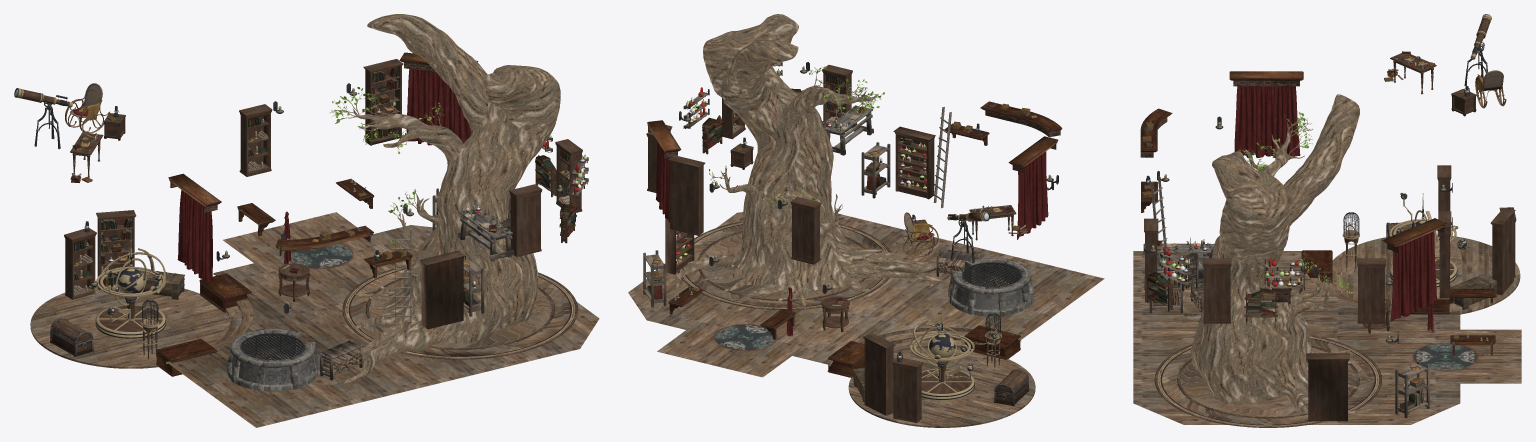
File: lingo_diorama.glb
3 views of the same model, side by side, from view 1: azimuth 30°, elevation 25°; view 2: azimuth 150°, elevation 25°; view 3: azimuth 270°, elevation 25° (orthographic). The views are drawn at different scales.
Visible parts, largest first — view 1: KB3D_ECI_IntWizardOffice_A_Floor, KB3D_ECI_IntWizardOffice_A_Tree, KB3D_ECI_IntWizardOffice_A_FirePlace, KB3D_ECI_IntWizardOffice_A_EarthGlobe, KB3D_ECI_IntWizardOffice_A_CurtainA, KB3D_ECI_IntWizardOffice_A_CurtainB, KB3D_ECI_IntWizardOffice_A_ShelfUnitF, KB3D_ECI_IntWizardOffice_A_ShelfUnitE, KB3D_ECI_IntWizardOffice_A_ShelfUnitH, KB3D_ECI_IntWizardOffice_A_ShelfUnitC, KB3D_ECI_IntWizardOffice_A_ShelfUnitJ, KB3D_ECI_IntWizardOffice_A_ShelfUnitL (+15 smaller); view 2: KB3D_ECI_IntWizardOffice_A_Floor, KB3D_ECI_IntWizardOffice_A_Tree, KB3D_ECI_IntWizardOffice_A_FirePlace, KB3D_ECI_IntWizardOffice_A_EarthGlobe, KB3D_ECI_IntWizardOffice_A_CurtainA, KB3D_ECI_IntWizardOffice_A_ShelfUnitE, KB3D_ECI_IntWizardOffice_A_ShelfUnitF, KB3D_ECI_IntWizardOffice_A_ShelfUnitH, KB3D_ECI_IntWizardOffice_A_ShelfUnitL, KB3D_ECI_IntWizardOffice_A_ShelfUnitC, KB3D_ECI_IntWizardOffice_A_CurtainB, KB3D_ECI_IntWizardOffice_A_Rug (+20 smaller); view 3: KB3D_ECI_IntWizardOffice_A_Floor, KB3D_ECI_IntWizardOffice_A_Tree, KB3D_ECI_IntWizardOffice_A_CurtainA, KB3D_ECI_IntWizardOffice_A_CurtainB, KB3D_ECI_IntWizardOffice_A_ShelfUnitG, KB3D_ECI_IntWizardOffice_A_ShelfUnitK, KB3D_ECI_IntWizardOffice_A_ShelfUnitD, KB3D_ECI_IntWizardOffice_A_ShelfUnitH, KB3D_ECI_IntWizardOffice_A_Rug, KB3D_ECI_IntWizardOffice_A_ShelfUnitM, KB3D_ECI_IntWizardOffice_A_EarthGlobe, KB3D_ECI_IntWizardOffice_A_ShelfUnitE (+19 smaller).
Boxes of the visible parts, box(x1,y1,x2,y2) form: KB3D_ECI_IntWizardOffice_A_Floor: box(30, 212, 599, 427); KB3D_ECI_IntWizardOffice_A_Tree: box(308, 14, 560, 385); KB3D_ECI_IntWizardOffice_A_FirePlace: box(227, 328, 319, 391); KB3D_ECI_IntWizardOffice_A_EarthGlobe: box(89, 240, 165, 339); KB3D_ECI_IntWizardOffice_A_CurtainA: box(168, 173, 221, 284); KB3D_ECI_IntWizardOffice_A_CurtainB: box(399, 52, 478, 145); KB3D_ECI_IntWizardOffice_A_ShelfUnitF: box(419, 250, 464, 329); KB3D_ECI_IntWizardOffice_A_ShelfUnitE: box(363, 59, 403, 145); KB3D_ECI_IntWizardOffice_A_ShelfUnitH: box(96, 210, 136, 291); KB3D_ECI_IntWizardOffice_A_ShelfUnitC: box(239, 104, 272, 176); KB3D_ECI_IntWizardOffice_A_ShelfUnitJ: box(509, 184, 542, 256); KB3D_ECI_IntWizardOffice_A_ShelfUnitL: box(64, 228, 96, 299); KB3D_ECI_IntWizardOffice_A_Floor: box(628, 212, 1104, 427); KB3D_ECI_IntWizardOffice_A_Tree: box(674, 14, 949, 308); KB3D_ECI_IntWizardOffice_A_FirePlace: box(948, 258, 1033, 316); KB3D_ECI_IntWizardOffice_A_EarthGlobe: box(910, 308, 1001, 400); KB3D_ECI_IntWizardOffice_A_CurtainA: box(1008, 136, 1058, 239); KB3D_ECI_IntWizardOffice_A_ShelfUnitE: box(668, 155, 705, 235); KB3D_ECI_IntWizardOffice_A_ShelfUnitF: box(893, 126, 935, 199); KB3D_ECI_IntWizardOffice_A_ShelfUnitH: box(863, 333, 895, 415); KB3D_ECI_IntWizardOffice_A_ShelfUnitL: box(892, 357, 922, 422); KB3D_ECI_IntWizardOffice_A_ShelfUnitC: box(790, 197, 821, 264); KB3D_ECI_IntWizardOffice_A_CurtainB: box(647, 120, 681, 222); KB3D_ECI_IntWizardOffice_A_Rug: box(713, 324, 777, 351); KB3D_ECI_IntWizardOffice_A_Floor: box(1133, 234, 1521, 427); KB3D_ECI_IntWizardOffice_A_Tree: box(1179, 94, 1381, 414); KB3D_ECI_IntWizardOffice_A_CurtainA: box(1229, 71, 1303, 157); KB3D_ECI_IntWizardOffice_A_CurtainB: box(1382, 218, 1446, 321); KB3D_ECI_IntWizardOffice_A_ShelfUnitG: box(1306, 353, 1349, 421); KB3D_ECI_IntWizardOffice_A_ShelfUnitK: box(1202, 258, 1231, 323); KB3D_ECI_IntWizardOffice_A_ShelfUnitD: box(1357, 258, 1385, 323); KB3D_ECI_IntWizardOffice_A_ShelfUnitH: box(1490, 208, 1515, 294); KB3D_ECI_IntWizardOffice_A_Rug: box(1412, 342, 1478, 370); KB3D_ECI_IntWizardOffice_A_ShelfUnitM: box(1395, 361, 1429, 418); KB3D_ECI_IntWizardOffice_A_EarthGlobe: box(1389, 192, 1467, 287); KB3D_ECI_IntWizardOffice_A_ShelfUnitE: box(1438, 211, 1451, 298).
Bounding box in the file's own units: 14.98 × 9.42 × 11.91.
29 materials, 29 textured.
